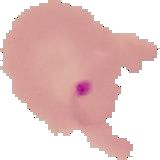parasitized: (38, 40, 106, 129)
